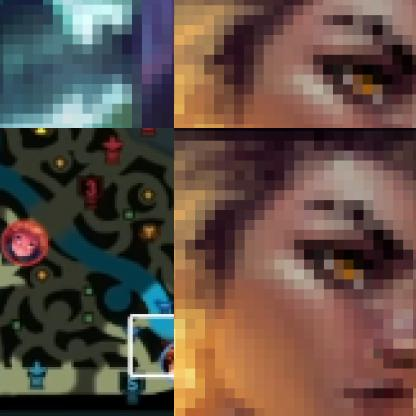Miss Fortune: (160, 342, 173, 388)
Rell: (174, 128, 415, 415), (174, 0, 415, 127)
Yorick: (0, 0, 173, 127)
Zoe: (1, 219, 51, 266)
